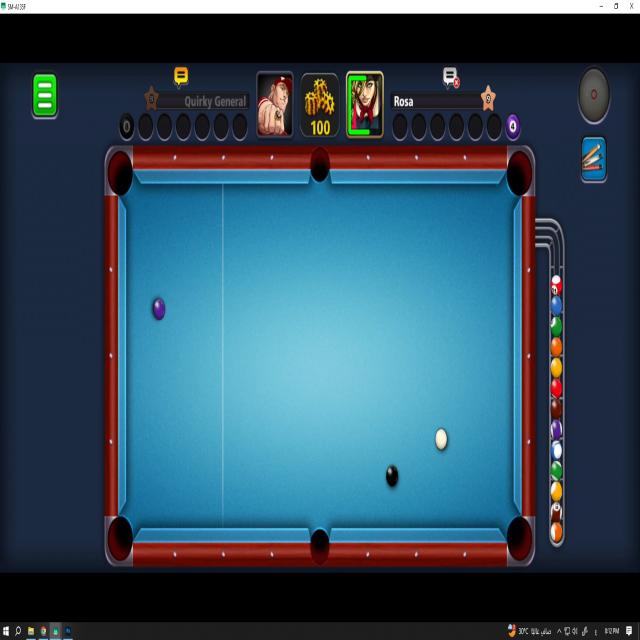object_ball: (153, 299, 165, 320), (387, 465, 398, 486)
white_cue_ball: (436, 429, 447, 450)
